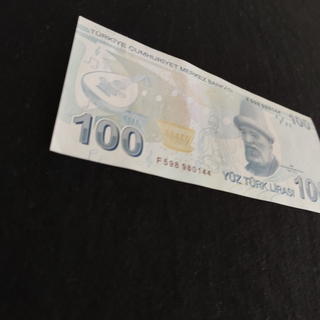100TLBack: (49, 14, 320, 217)
